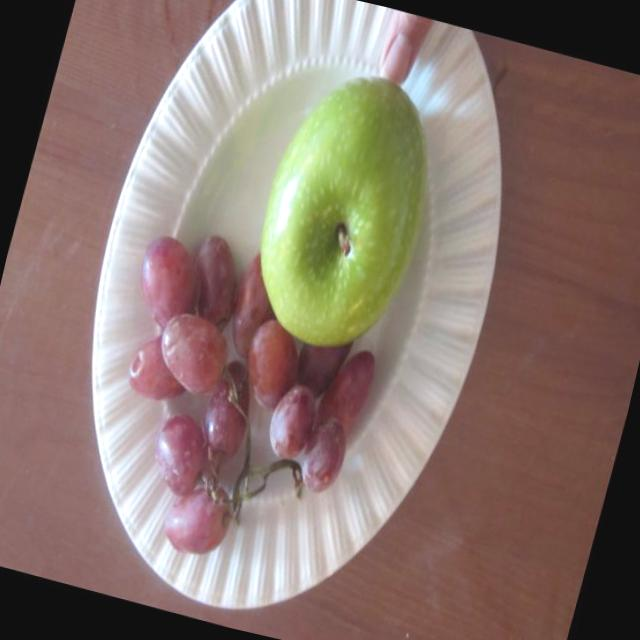Apple: (232, 52, 456, 366)
Finger: (364, 5, 440, 89)
Grapes: (67, 292, 391, 600)
